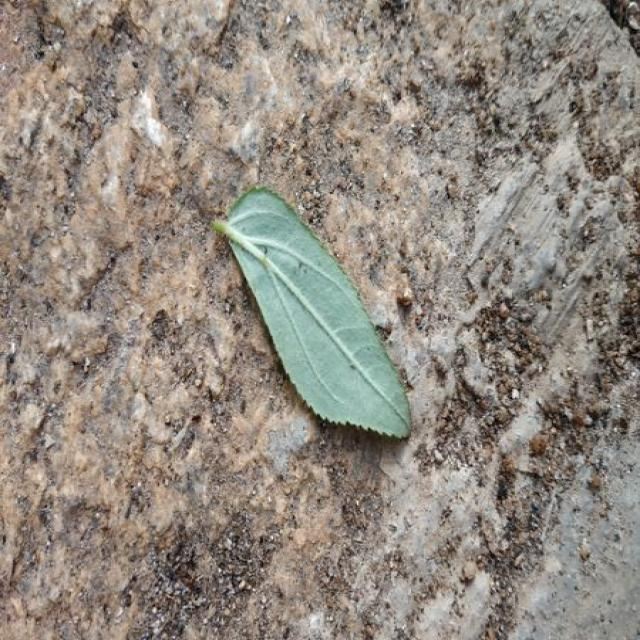Astma_weed: (213, 189, 410, 437)
